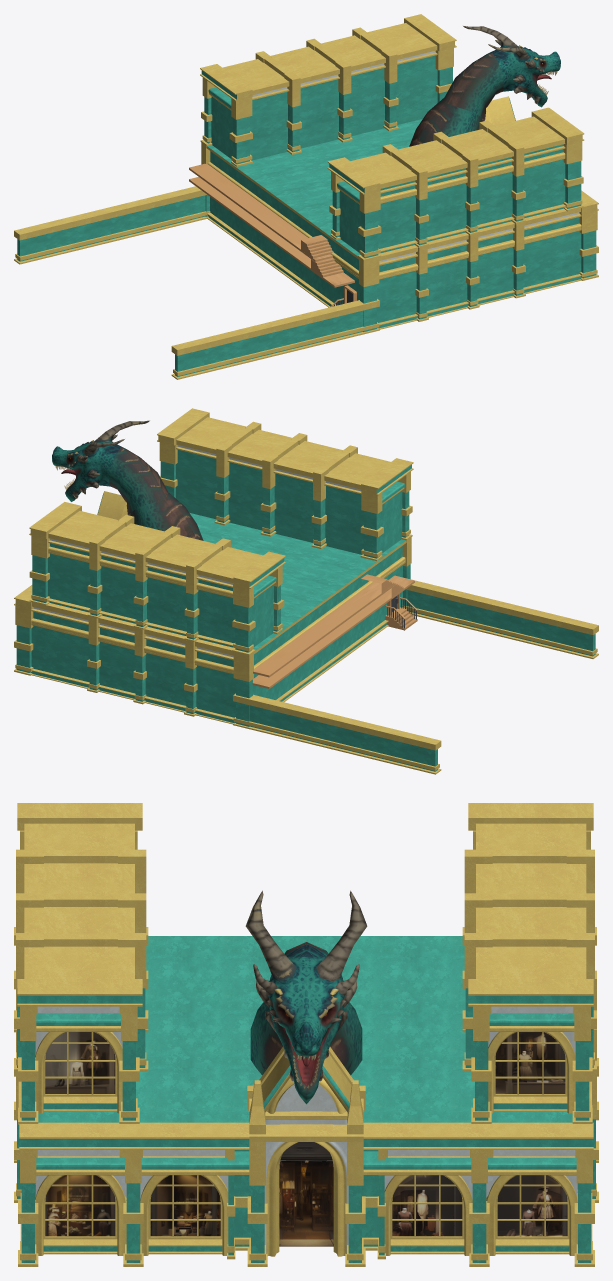
Rendered from dragonstore.FBX.
3 renders of one model, top to bottom at view 1: azimuth 30°, elevation 25°; view 2: azimuth 150°, elevation 25°; view 3: azimuth 270°, elevation 25°, orthographic. The views are drawn at different scales.
Visible parts, largest first — view 1: dragonstore; view 2: dragonstore; view 3: dragonstore.
Part boxes in pixels (<box>): dragonstore: <box>14,14,598,379</box>; dragonstore: <box>14,408,598,774</box>; dragonstore: <box>14,803,598,1266</box>.
Size of the model in its own units: 624 by 249 by 385.
